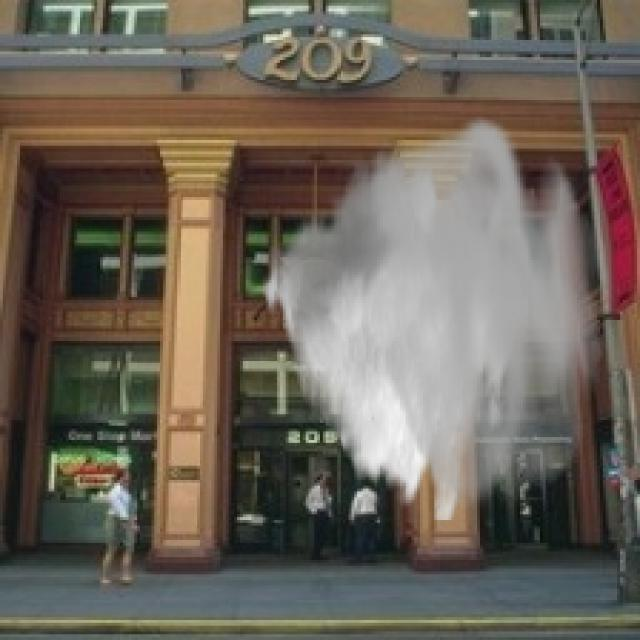smoke: (260, 111, 603, 520)
